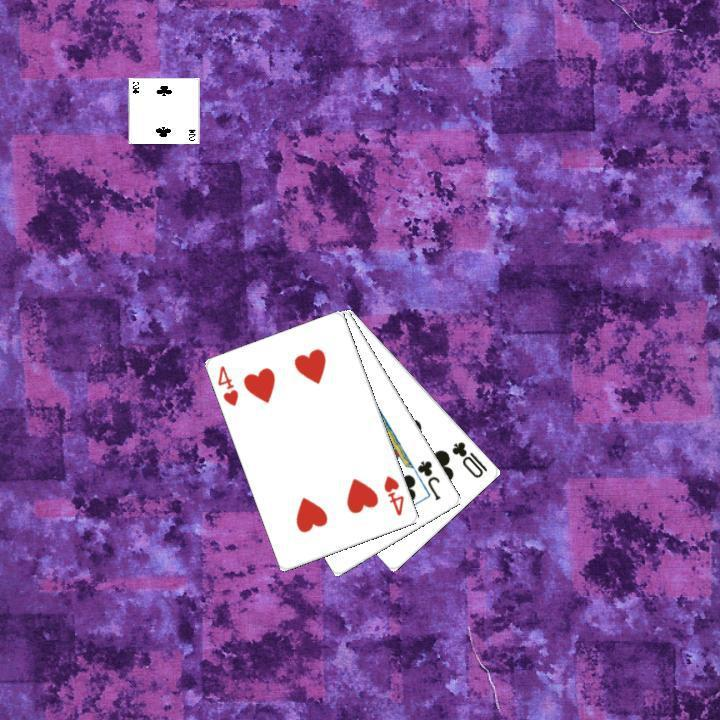10: (448, 437, 490, 480)
4: (380, 472, 407, 518), (214, 362, 241, 408)
J: (413, 456, 443, 503)
